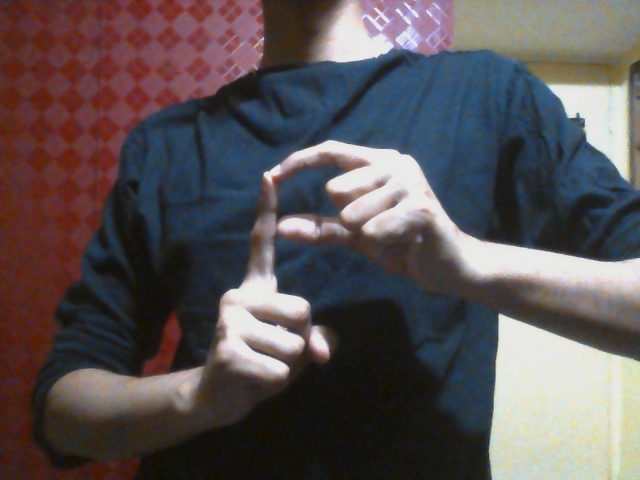P: (210, 138, 445, 413)
